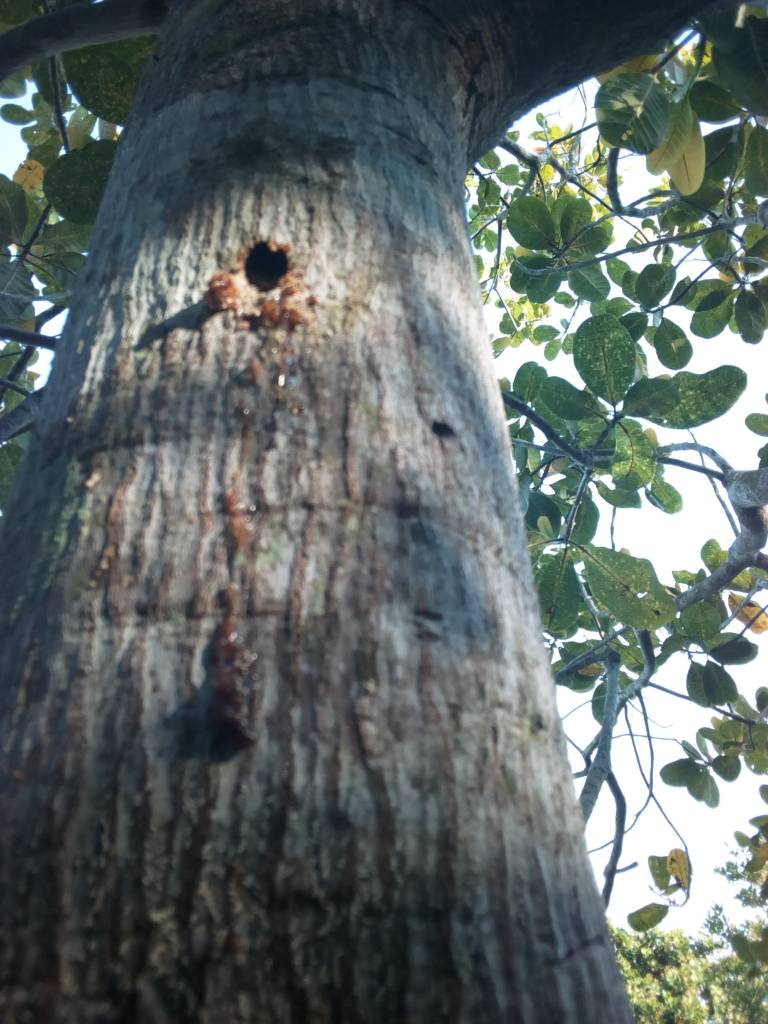Apate terebrans: (202, 221, 352, 319)
